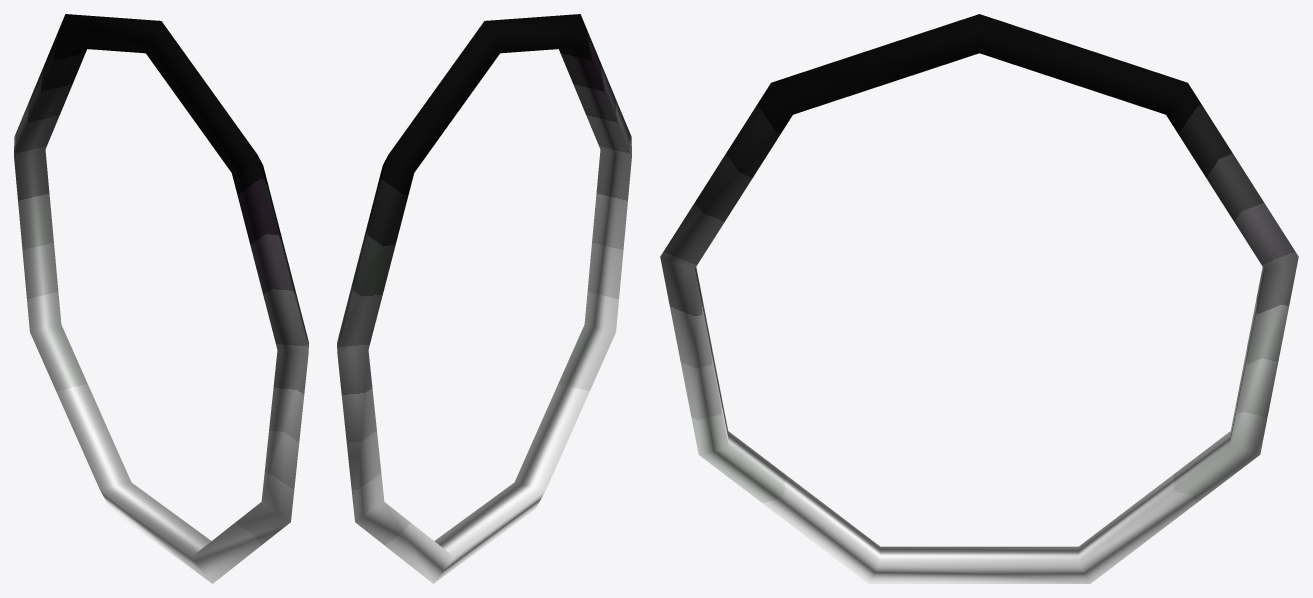
The model's file is instanceportal.obj.
3 renders of one model, left to right at view 1: azimuth 30°, elevation 25°; view 2: azimuth 150°, elevation 25°; view 3: azimuth 270°, elevation 25°, orthographic. The views are drawn at different scales.
Parts seen in each view (by area): view 1: InstancePortal; view 2: InstancePortal; view 3: InstancePortal.
Part boxes in pixels (x1,y1,x2,y2): InstancePortal: (14,14,308,583); InstancePortal: (337,14,631,583); InstancePortal: (660,14,1298,583).
Bounding box in the file's own units: 0.5451 × 8.69 × 8.83.
1 material, 1 textured.
